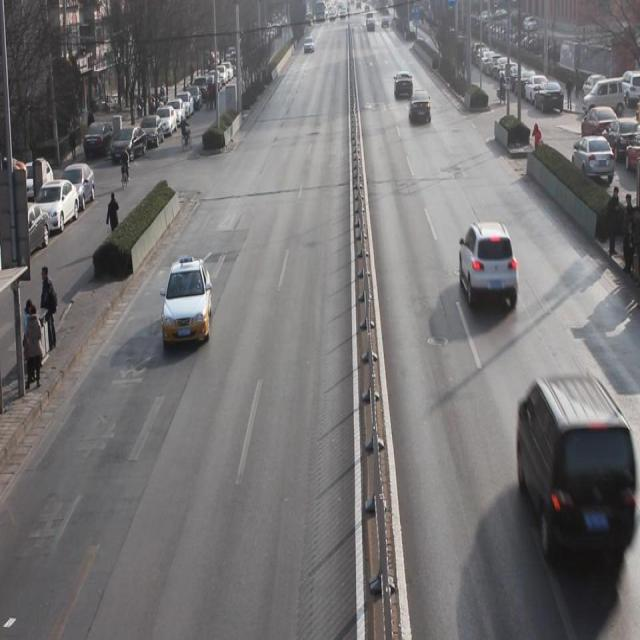car: (459, 223, 520, 313), (163, 258, 212, 350), (407, 91, 433, 125), (394, 71, 414, 102)
truck: (512, 380, 626, 565)
